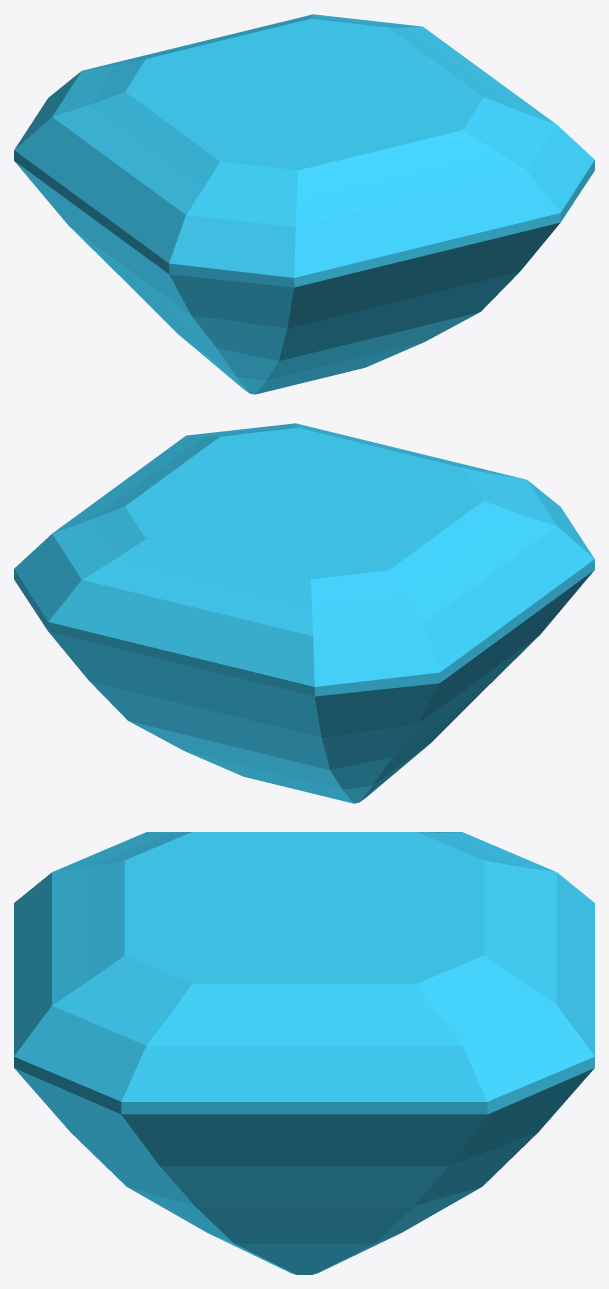
Rendered from cushion.glb.
3 renders of one model, top to bottom at view 1: azimuth 30°, elevation 25°; view 2: azimuth 150°, elevation 25°; view 3: azimuth 270°, elevation 25°, orthographic. The views are drawn at different scales.
Visible parts, largest first — view 1: Emerald Square Cut.1_32; view 2: Emerald Square Cut.1_32; view 3: Emerald Square Cut.1_32.
Boxes of the visible parts, x1,y1,x2,y2 form: Emerald Square Cut.1_32: (14, 14, 594, 394); Emerald Square Cut.1_32: (14, 423, 594, 803); Emerald Square Cut.1_32: (14, 832, 594, 1274).
Size of the model in its own units: 1.89 by 1.2 by 1.89.
